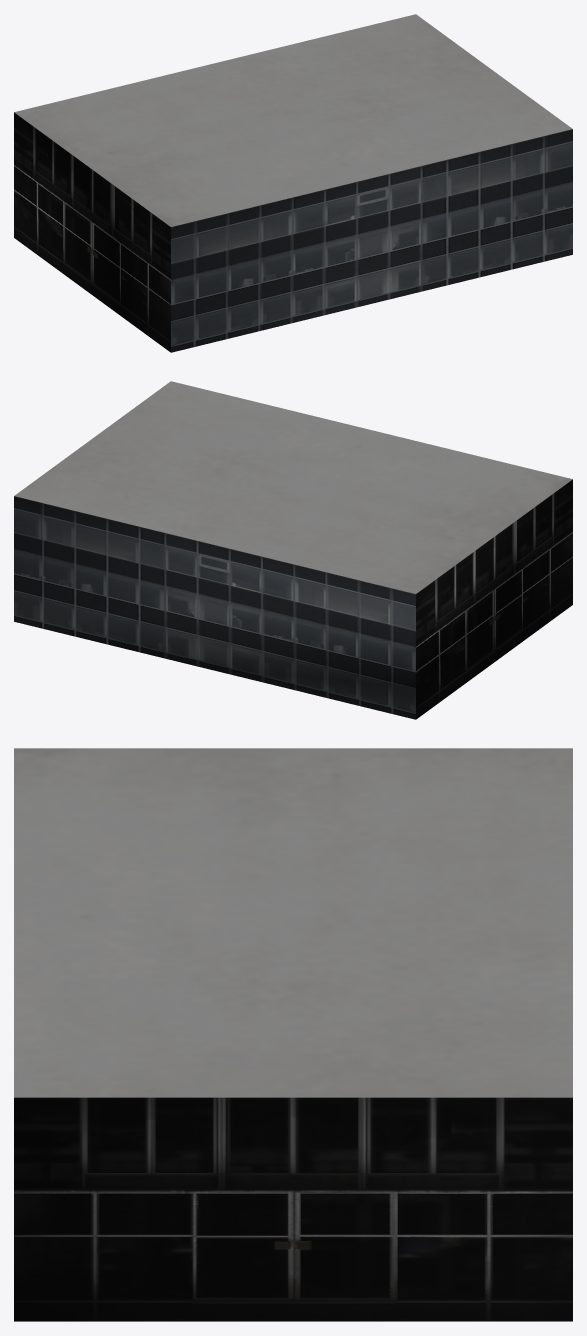
File: Modern Building 11.FBX
3 renders of one model, top to bottom at view 1: azimuth 30°, elevation 25°; view 2: azimuth 150°, elevation 25°; view 3: azimuth 270°, elevation 25°, orthographic. The views are drawn at different scales.
Visible parts, largest first — view 1: Modern Building 11; view 2: Modern Building 11; view 3: Modern Building 11.
Part boxes in pixels (box(x1,y1,x2,y2)): Modern Building 11: box(14, 14, 572, 352); Modern Building 11: box(14, 381, 572, 719); Modern Building 11: box(14, 748, 572, 1321).
Size of the model in its own units: 765 by 229 by 518.
